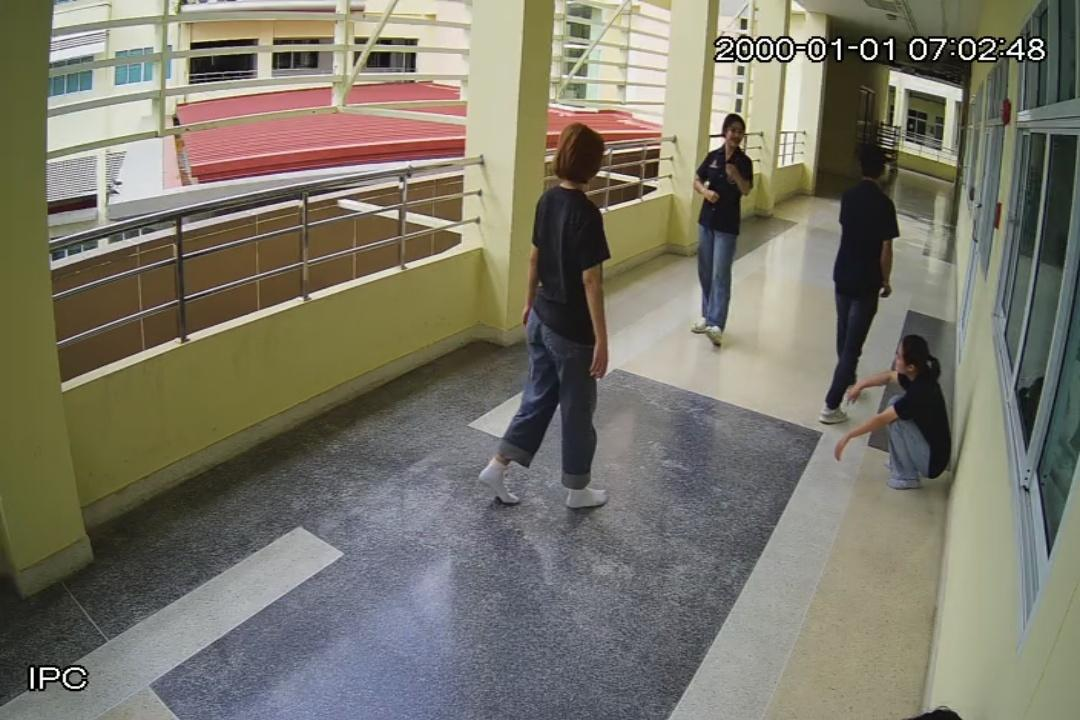normal: (486, 121, 614, 506), (820, 150, 893, 419), (836, 335, 952, 496), (694, 113, 752, 341)
